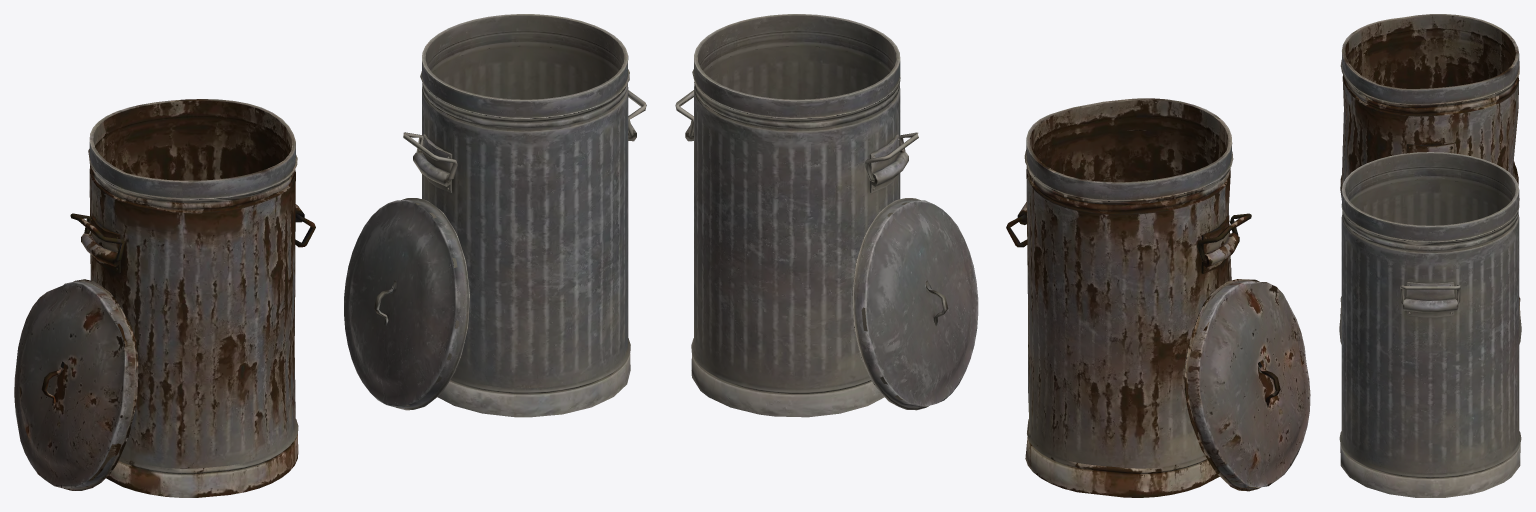
File: metal_trash_can.glb
3 views of the same model, side by side, from view 1: azimuth 30°, elevation 25°; view 2: azimuth 150°, elevation 25°; view 3: azimuth 270°, elevation 25° (orthographic). The views are drawn at different scales.
Visible parts, largest first — view 1: metal_trash_can_handle_left, metal_trash_can_rust; view 2: metal_trash_can_handle_left, metal_trash_can_rust; view 3: metal_trash_can_handle_left, metal_trash_can_rust.
Part boxes in pixels (x1,y1,x2,y2): metal_trash_can_handle_left: [344, 14, 646, 417]; metal_trash_can_rust: [14, 99, 315, 497]; metal_trash_can_handle_left: [675, 14, 978, 417]; metal_trash_can_rust: [1006, 98, 1310, 497]; metal_trash_can_handle_left: [1339, 152, 1521, 497]; metal_trash_can_rust: [1340, 14, 1520, 317].
Size of the model in its own units: 1.78 by 0.9062 by 0.5543.
Materials: 2 (2 with a texture image).
